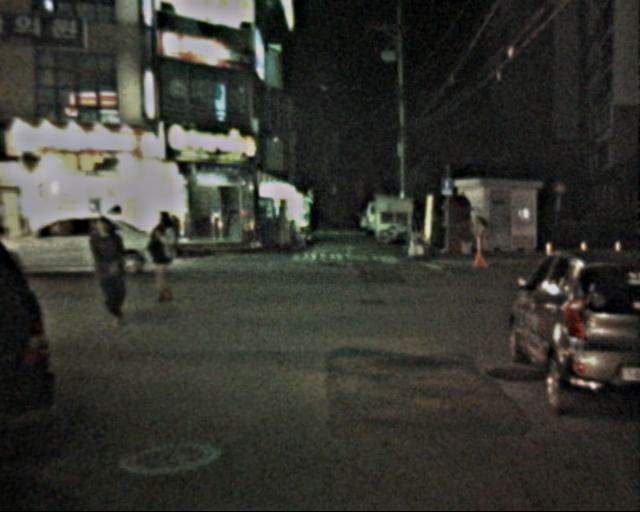person: (88, 206, 133, 321), (146, 208, 186, 307), (465, 206, 488, 265)
